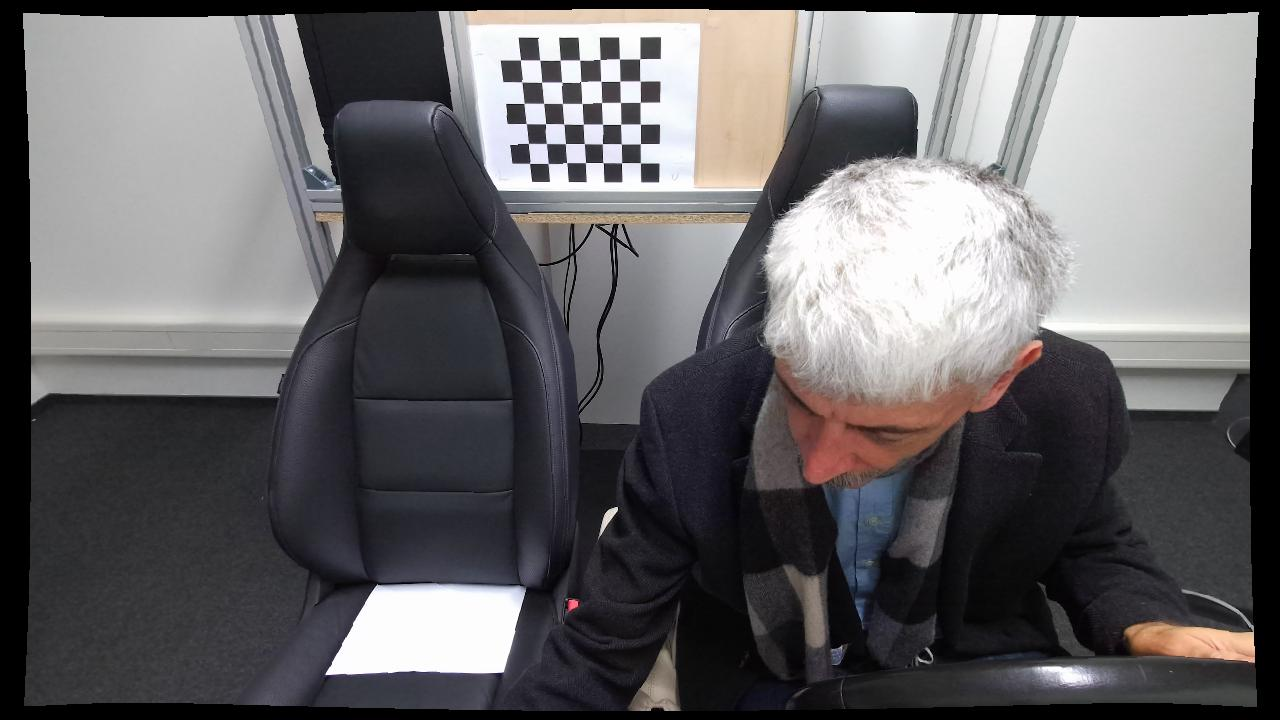Distracted: (493, 146, 1136, 712)
